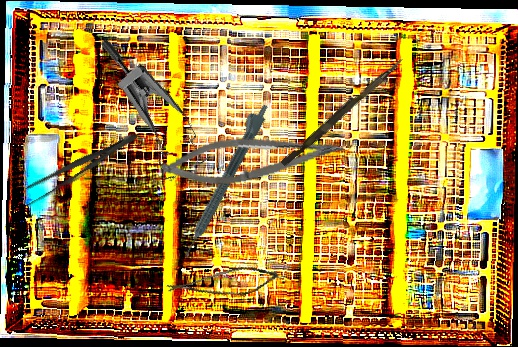Dressing Forceps: (15, 125, 142, 211)
Handpiece: (174, 99, 272, 260)
Micro Scissor: (157, 118, 349, 197), (165, 251, 281, 318)
Pusher: (280, 53, 405, 170)
Speculum: (58, 36, 230, 194)
